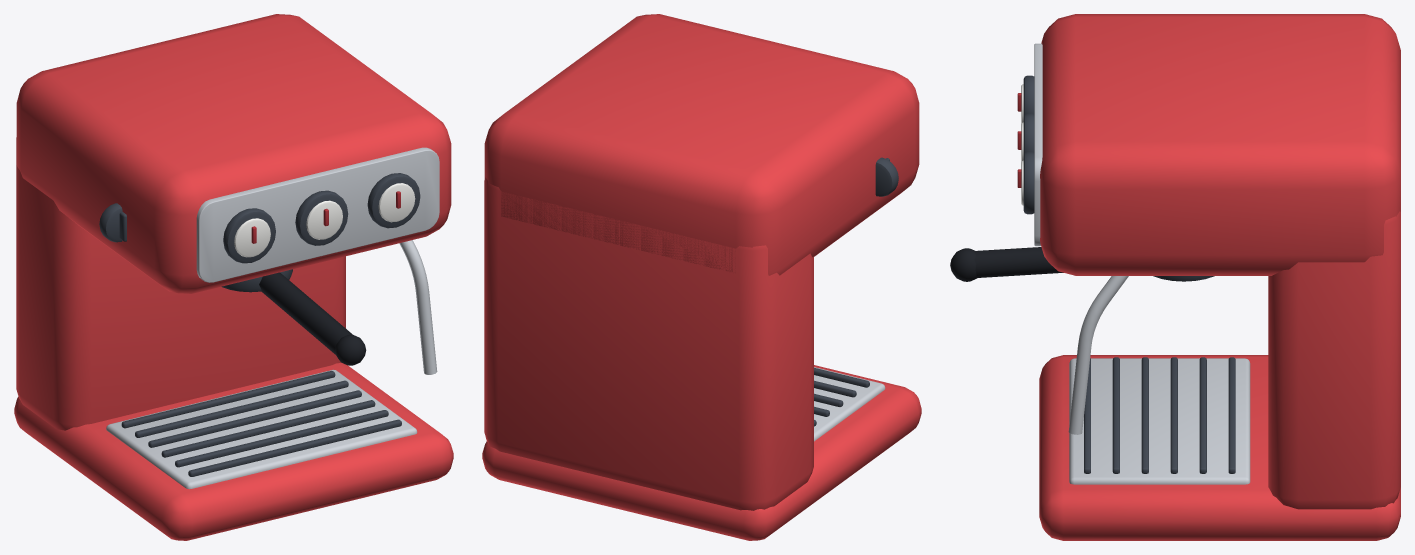
The model's file is cafeteira_expresso_vermelha.glb.
3 renders of one model, left to right at view 1: azimuth 30°, elevation 25°; view 2: azimuth 150°, elevation 25°; view 3: azimuth 270°, elevation 25°, orthographic. The views are drawn at different scales.
Parts seen in each view (by area): view 1: cafeteira_expresso_vermelha; view 2: cafeteira_expresso_vermelha; view 3: cafeteira_expresso_vermelha.
Boxes of the visible parts, left/top/right/bottom form: cafeteira_expresso_vermelha: left=14, top=14, right=453, bottom=540; cafeteira_expresso_vermelha: left=482, top=14, right=921, bottom=540; cafeteira_expresso_vermelha: left=950, top=14, right=1400, bottom=540.
Size of the model in its own units: 0.322 by 0.36 by 0.374.
1 material, 1 textured.
